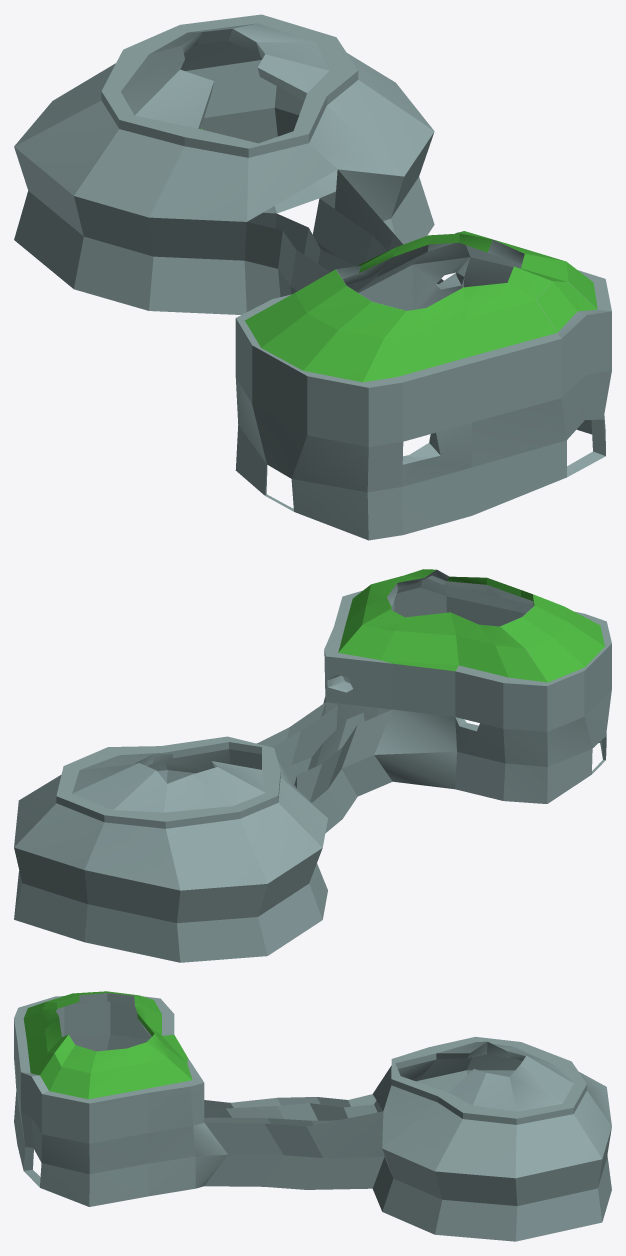
The model's file is Spawn.fbx.
The picture shows the model from 3 angles, top to bottom: view 1: azimuth 30°, elevation 25°; view 2: azimuth 150°, elevation 25°; view 3: azimuth 270°, elevation 25°; orthographic projection. The views are drawn at different scales.
Visible parts, largest first — view 1: PolyShape__2_; view 2: PolyShape__2_; view 3: PolyShape__2_.
Boxes of the visible parts, left/top/right/bottom form: PolyShape__2_: left=14, top=14, right=611, bottom=540; PolyShape__2_: left=14, top=569, right=611, bottom=962; PolyShape__2_: left=14, top=991, right=611, bottom=1241.
Bounding box in the file's own units: 24858 × 11079 × 43362.
